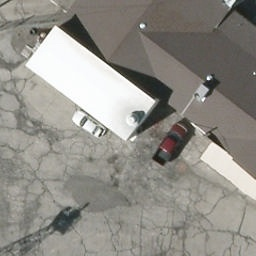car: (75, 110, 110, 138)
pickup: (154, 120, 195, 172)
